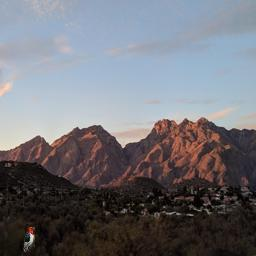Woodpecker: (23, 227, 35, 252)
